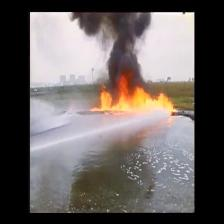fire: (92, 90, 169, 113)
smoke: (82, 11, 146, 32)
